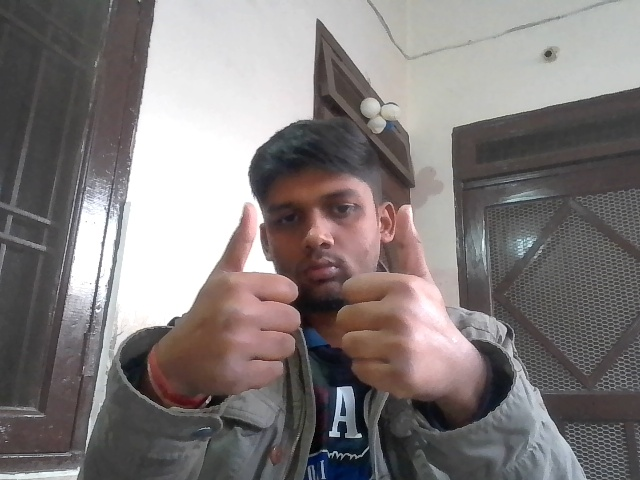Excellent: (169, 202, 471, 408)
